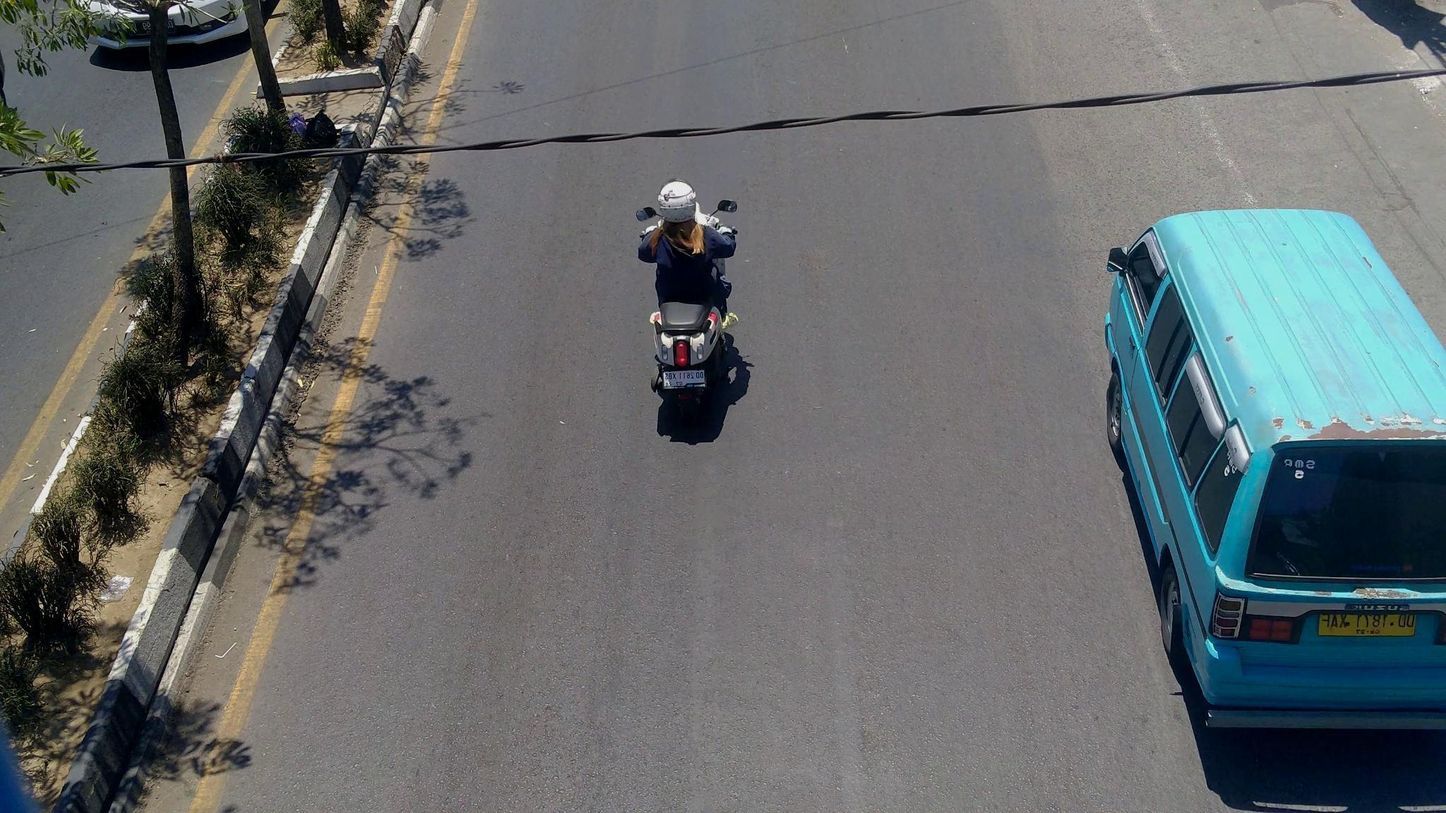Helmet: (651, 175, 702, 225)
bike: (632, 197, 742, 408)
number-plate: (661, 366, 711, 394)
rider: (638, 177, 741, 328)
